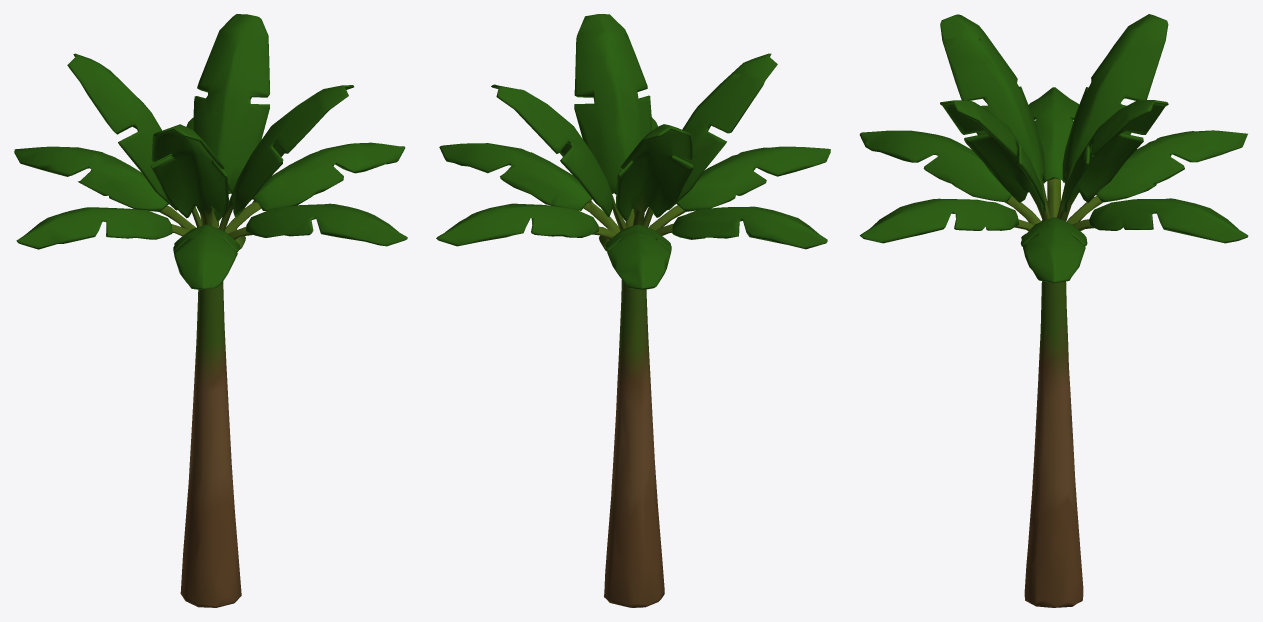
Rendered from gen3d-pandanus-tree-lod0.glb.
3 views of the same model, side by side, from view 1: azimuth 30°, elevation 25°; view 2: azimuth 150°, elevation 25°; view 3: azimuth 270°, elevation 25° (orthographic). The views are drawn at different scales.
Visible parts, largest first — view 1: part_0; view 2: part_0; view 3: part_0.
Part boxes in pixels (x1=…): part_0: x1=14, y1=14, x2=407, y2=607; part_0: x1=436, y1=14, x2=830, y2=607; part_0: x1=859, y1=14, x2=1248, y2=607.
Size of the model in its own units: 0.7743 by 0.9998 by 0.6549.
